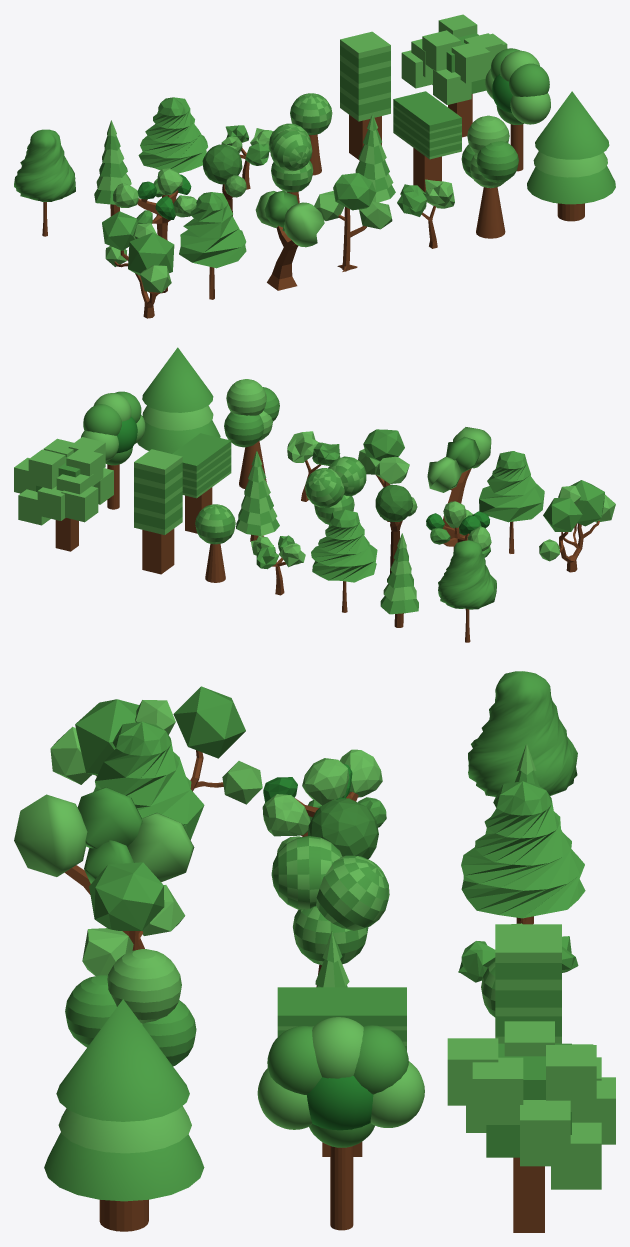
The model's file is tree.fbx.
3 renders of one model, top to bottom at view 1: azimuth 30°, elevation 25°; view 2: azimuth 150°, elevation 25°; view 3: azimuth 270°, elevation 25°, orthographic. The views are drawn at different scales.
Visible parts, largest first — view 1: pCone6, polySurface1, pCube1, pSphere8, pCube2, pSphere14, polySurface101, polySurface90, low_poly_tree1:polySurface1, polySurface35, polySurface88, polySurface20 (+8 smaller); view 2: polySurface1, pCone6, pCube1, pSphere8, low_poly_tree1:polySurface1, polySurface101, pSphere14, polySurface90, pCube2, polySurface88, polySurface35, pSphere19 (+8 smaller); view 3: polySurface1, pCone6, pSphere8, low_poly_tree1:polySurface1, polySurface35, pSphere19, polySurface101, polySurface88, pSphere14, polySurface20, pCube1, polySurface90 (+5 smaller).
Part boxes in pixels (x1,y1,x2,y2): pCone6: (527, 91, 615, 221); polySurface1: (401, 14, 507, 137); pCube1: (340, 31, 390, 160); pSphere8: (485, 48, 550, 171); pCube2: (393, 91, 461, 192); pSphere14: (461, 115, 518, 238); polySurface101: (102, 211, 174, 318); polySurface90: (179, 192, 246, 299); low_poly_tree1:polySurface1: (138, 97, 207, 203); polySurface35: (255, 190, 324, 290); polySurface88: (14, 129, 75, 236); polySurface20: (314, 173, 392, 271); polySurface1: (14, 437, 113, 551); pCone6: (137, 347, 220, 453); pCube1: (134, 449, 182, 574); pSphere8: (81, 391, 145, 509); low_poly_tree1:polySurface1: (311, 509, 377, 612); polySurface101: (539, 480, 615, 572); pSphere14: (224, 379, 279, 488); polySurface90: (479, 451, 544, 553); pCube2: (172, 433, 231, 533); polySurface88: (438, 540, 496, 642); polySurface35: (427, 427, 491, 539); pSphere19: (304, 456, 366, 524); polySurface1: (447, 1021, 615, 1232); pCone6: (44, 999, 204, 1231); pSphere8: (257, 1017, 424, 1230); low_poly_tree1:polySurface1: (461, 781, 585, 924); polySurface35: (14, 787, 194, 949); pSphere19: (271, 836, 389, 986); polySurface101: (50, 686, 262, 804); polySurface88: (468, 671, 577, 796); pSphere14: (65, 949, 196, 1066); polySurface20: (82, 862, 185, 975); pCube1: (495, 924, 561, 1043); polySurface90: (93, 721, 204, 839).
Size of the model in its own units: 15.13 by 3.76 by 9.01.
